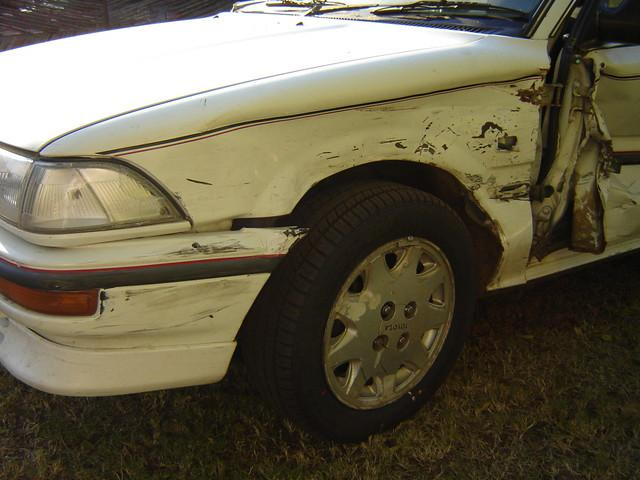fender-dent: (158, 73, 540, 230)
